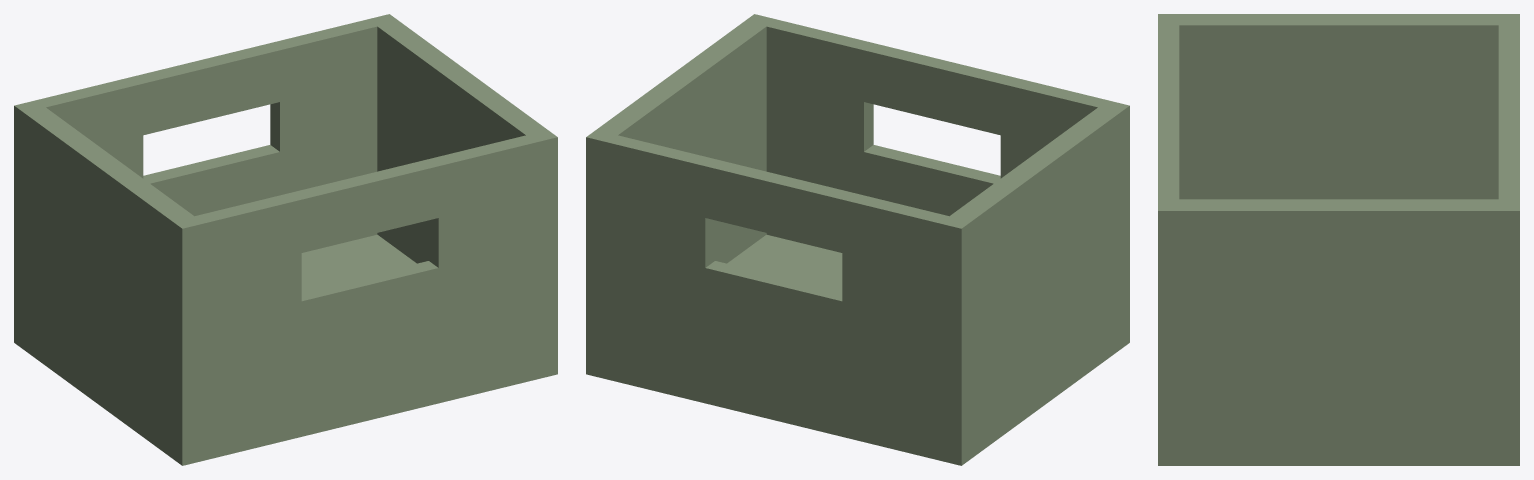
The picture shows the model from 3 angles, left to right: view 1: azimuth 30°, elevation 25°; view 2: azimuth 150°, elevation 25°; view 3: azimuth 270°, elevation 25°; orthographic projection. The views are drawn at different scales.
Visible parts, largest first — view 1: box_1; view 2: box_1; view 3: box_1.
Boxes of the visible parts, x1,y1,x2,y2 form: box_1: (14, 14, 557, 465); box_1: (586, 14, 1129, 465); box_1: (1158, 14, 1519, 465).
Bounding box in the file's own units: 0.8728 × 0.527 × 0.6777.
